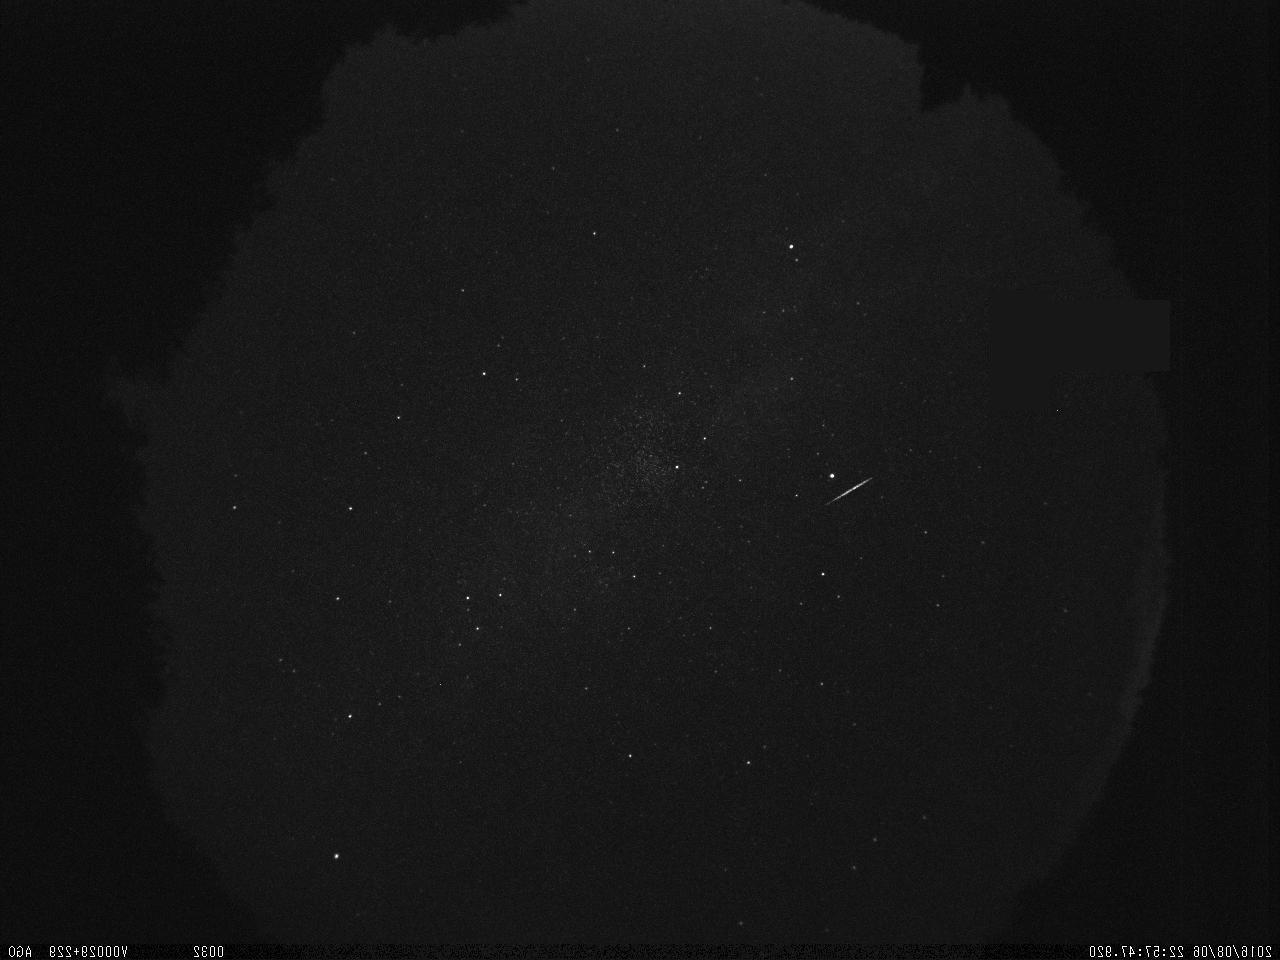meteor: (824, 470, 883, 518)
